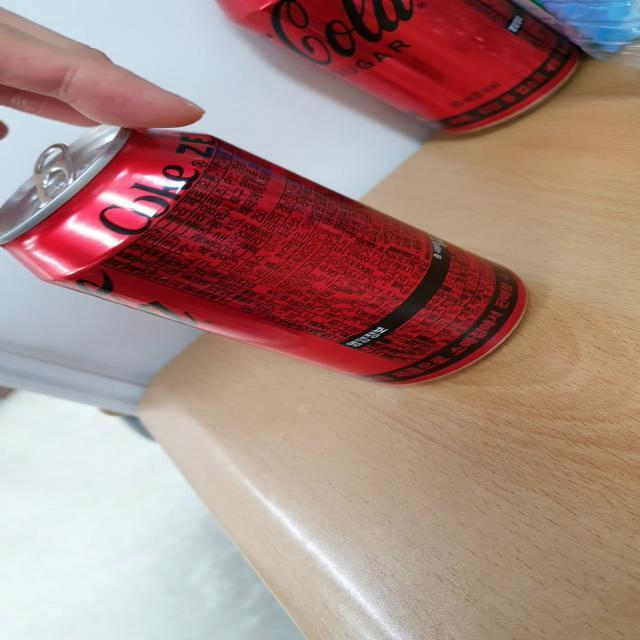coca-cola: (2, 122, 542, 390), (212, 2, 600, 138)
